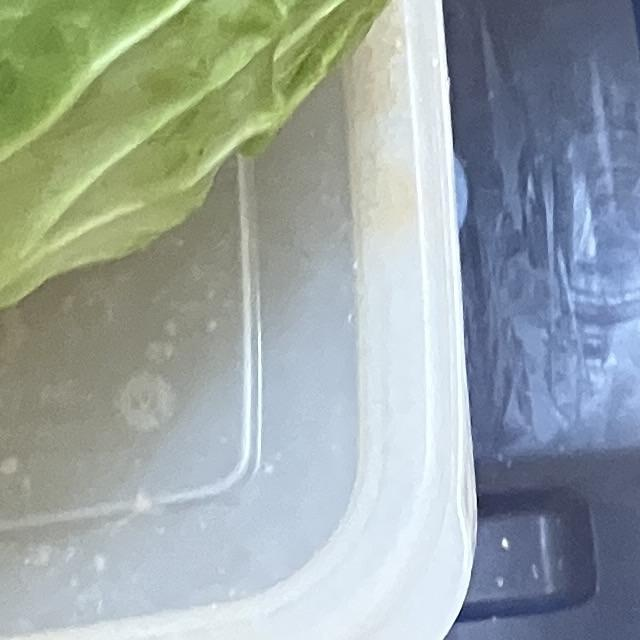cabbage: (0, 0, 488, 373)
